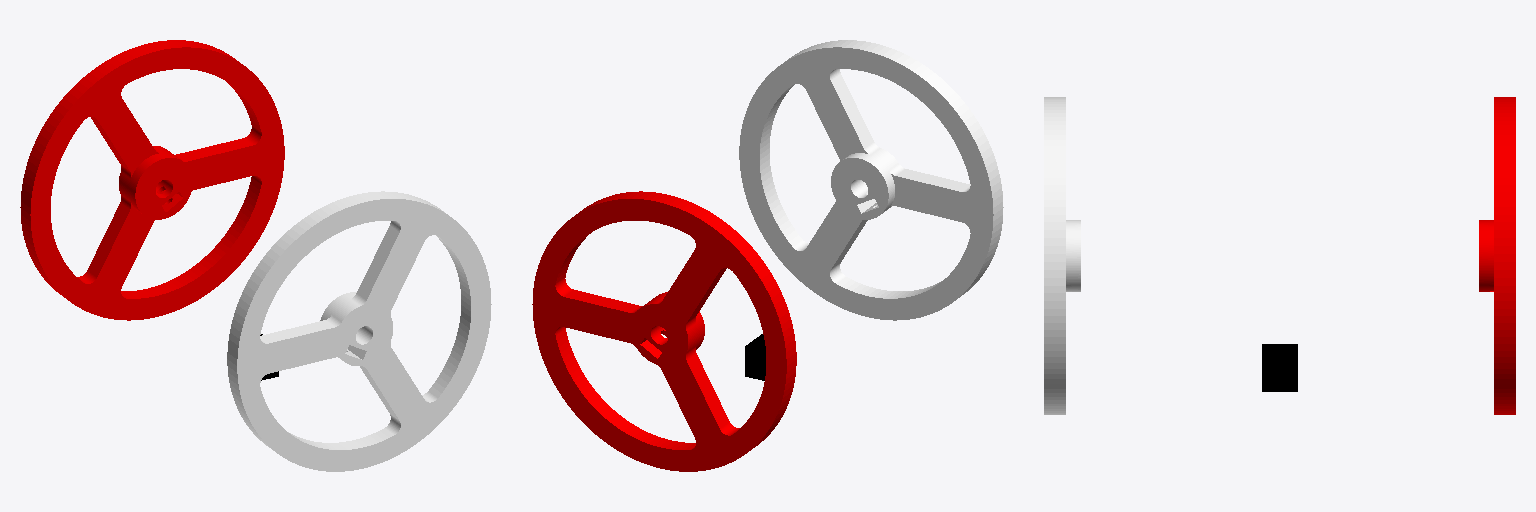
URDF robot description (Self_Balancing_Robot):
<?xml version="1.0"?>
<robot name="Self_Balancing_Robot">
  <!-- Chassis -->
  <link name="Chassis">
    <visual>
      <geometry>
        <mesh filename="meshes/Robot_V1.dae" />
      </geometry>
      <origin xyz="0 0 0.0" rpy="0 0 0 "/> 
      <material name="ChassisMaterial">
        <color rgba="0.75 0.75 0.75 1"/>  <!-- Warna abu-abu untuk chassis -->
      </material>
    </visual>
    <collision>
      <geometry>
        <mesh filename="meshes/Robot_V1.dae" />
      </geometry>
      <origin xyz="0 0 0.0" rpy="0 0 0"/> 
    </collision>
    <inertial>
      <origin xyz="0 0 0.065" rpy="0 0 0"/>
      <mass value="0.450"/>
      <inertia ixx="0.00" ixy="0" ixz="0" iyy="0.00" iyz="0" izz="0.00"/>
    </inertial>
  </link>

  <!-- Left Wheel -->
  <link name="Left_Wheel">
    <visual>
      <geometry>
        <mesh filename="meshes/Robot_Wheel_Left.dae"  />
      </geometry>
      <origin xyz="0 0.0 -0.044" rpy="0 0 0"/>
      <material name="WheelMaterial">
        <color rgba="1 0 0 1"/>  <!-- Warna merah untuk roda Kiri -->
      </material>
    </visual>
    <collision>
      <geometry>
        <mesh filename="meshes/Robot_Wheel_Left.dae"  />
      </geometry>
      <origin xyz="0 0.0 -0.044" rpy="0 0 0"/> 
    </collision>
    <inertial>
      <origin xyz="0 0.0 -0.044" rpy="0 0 0"/>
      <mass value="0.015"/>
      <inertia ixx="0.00" ixy="0" ixz="0" iyy="0.000" iyz="0" izz="0.00"/>
    </inertial>
  </link>

  <!-- Right Wheel -->
  <link name="Right_Wheel">
    <visual>
      <geometry>
        <mesh filename="meshes/Robot_Wheel_Right.dae" />
      </geometry>
      <origin xyz="0 0.0 -0.044" rpy="0 0 0"/>  
      <material name="Wheel_R_Material">
        <color rgba="1 1 1 1"/>  <!-- Warna putih untuk roda Kanan-->
      </material>
    </visual>
    <collision>
      <geometry>
        <mesh filename="meshes/Robot_Wheel_Right.dae" />
      </geometry>
      <origin xyz="0 0.0 -0.044" rpy="0 0 0"/> 
    </collision>
    <inertial>
      <origin xyz="0 0.0 -0.044" rpy="0 0 0"/>
      <mass value="0.015"/>
      <inertia ixx="0.000" ixy="0" ixz="00" iyy="0.000" iyz="0" izz="0.000"/>
    </inertial>
  </link>

  <!-- Left Wheel Joint -->
  <joint name="left_wheel_joint" type="continuous">
    <parent link="Chassis"/>
    <child link="Left_Wheel"/>
    <origin xyz="0.0 0.00 0.044" rpy="0 0 0"/>
    <limit effort="0.055" velocity="1000"/> <!--effort = force-->
    <axis xyz="0 1 0"/>
  </joint>

  <!-- Right Wheel Joint -->
  <joint name="right_wheel_joint" type="continuous">
    <parent link="Chassis"/>
    <child link="Right_Wheel"/>
    <origin xyz="0.0 0.00 0.044" rpy="0 0 0"/>
    <limit effort="0.055" velocity="1000"/> <!--efort = force-->
    <axis xyz="0 1 0"/>
  </joint>

  <link name="line_sensor_link">
    <visual>
      <origin xyz="0 0 0" rpy="0 0 0 "/>
      <geometry>
        <box size="0.01 0.01 0.01"/>
      </geometry>
      <material name="black">
        <color rgba="0 0 0 1"/>
      </material>
    </visual>
    <collision>
      <origin xyz="0 0 0" rpy="0 0 0 "/>
      <geometry>
        <box size="0.01 0.01 0.01"/>
      </geometry>
    </collision>
    <inertial>
        <origin xyz="0 0 0" rpy="0 0 0" />
        <mass value="0.0001" />
        <inertia ixx="0.00000" 
            ixy="0"  ixz="0"
            iyx="0"  iyy="0.00000" 
            iyz="0"
            izx="0"  izy="0"  izz="0.00000" />
    </inertial>
  </link>

  <joint name="line_sensor_joint" type="fixed">
    <parent link="Chassis"/>
    <child link="line_sensor_link"/>
    <origin xyz="0.00 0.0 0.01" rpy="0 0 0"/>
    <axis xyz="0 0 1"/>
  </joint>

  <link name="line_target_position_vertual_link">
        <inertial>
        <origin xyz="0 0 0" rpy="0 0 0" />
        <mass value="0.0001" />
        <inertia ixx="0.00000" 
            ixy="0"  ixz="0"
            iyx="0"  iyy="0.00000" 
            iyz="0"
            izx="0"  izy="0"  izz="0.00000" />
    </inertial>
  </link>

  <joint name="line_sensor_target_joint" type="fixed">
    <parent link="line_sensor_link"/>
    <child link="line_target_position_vertual_link"/>
    <origin xyz="0.0 0.0 -0.001" rpy="0 0 0"/>
    <axis xyz="0 0 1"/>
  </joint>
</robot>

--- What the picture shows (computed from the rendered views, not written in the file) ---
3 views of the same robot in one strip: view 1: azimuth 30°, elevation 25°; view 2: azimuth 150°, elevation 25°; view 3: azimuth 270°, elevation 25° (orthographic).
Model Self_Balancing_Robot with 5 links and 4 joints (2 continuous, 2 fixed), rooted at Chassis, posed every joint at zero.
Links seen in each view (by area): view 1: Left_Wheel, Right_Wheel; view 2: Right_Wheel, Left_Wheel, line_sensor_link; view 3: Left_Wheel, Right_Wheel, line_sensor_link.
Link boxes in pixels (x1,y1,x2,y2): Left_Wheel: [20, 40, 284, 320]; Right_Wheel: [227, 191, 491, 471]; Right_Wheel: [739, 40, 1003, 320]; Left_Wheel: [532, 191, 796, 471]; line_sensor_link: [745, 334, 765, 380]; Left_Wheel: [1479, 97, 1515, 414]; Right_Wheel: [1044, 97, 1080, 414]; line_sensor_link: [1262, 344, 1297, 391].
Bounding box of the posed robot: 0.088 × 0.13 × 0.088 m (x, y, z).
2 mesh visuals loaded from 3 distinct referenced files (2 Collada DAE); not drawn: 1 (reference not matched to a file when rendering).
